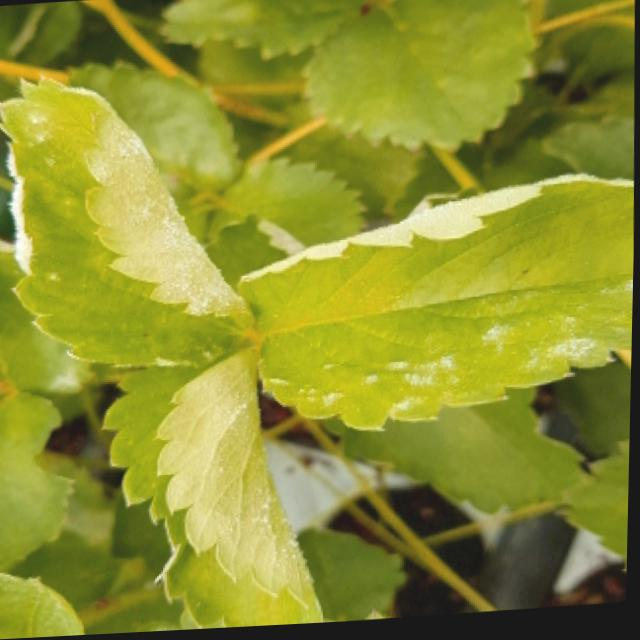Powdery Mildew Leaf: (237, 176, 634, 438), (0, 73, 253, 369), (103, 340, 325, 631), (0, 240, 98, 398)
